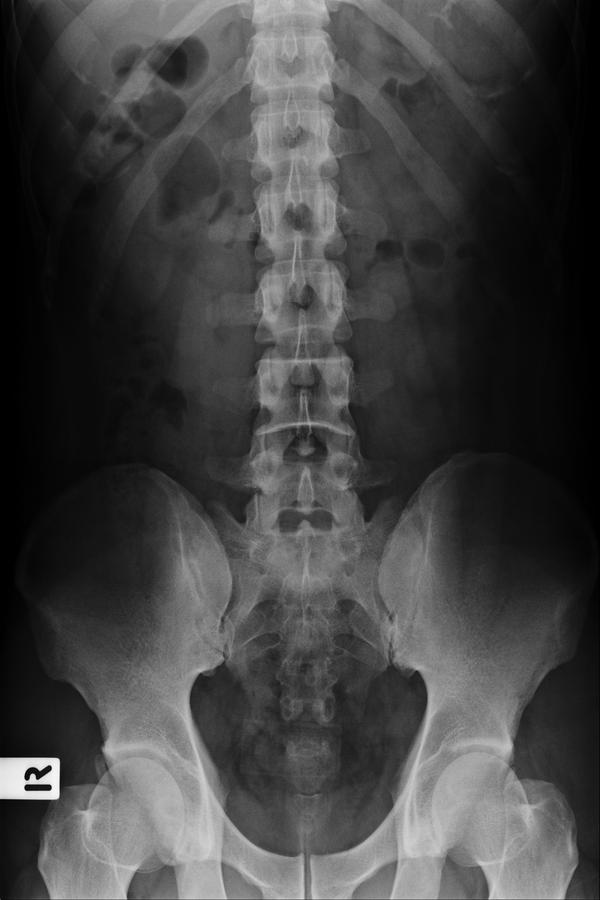not lumbar scoliosis: (238, 171, 370, 548)
